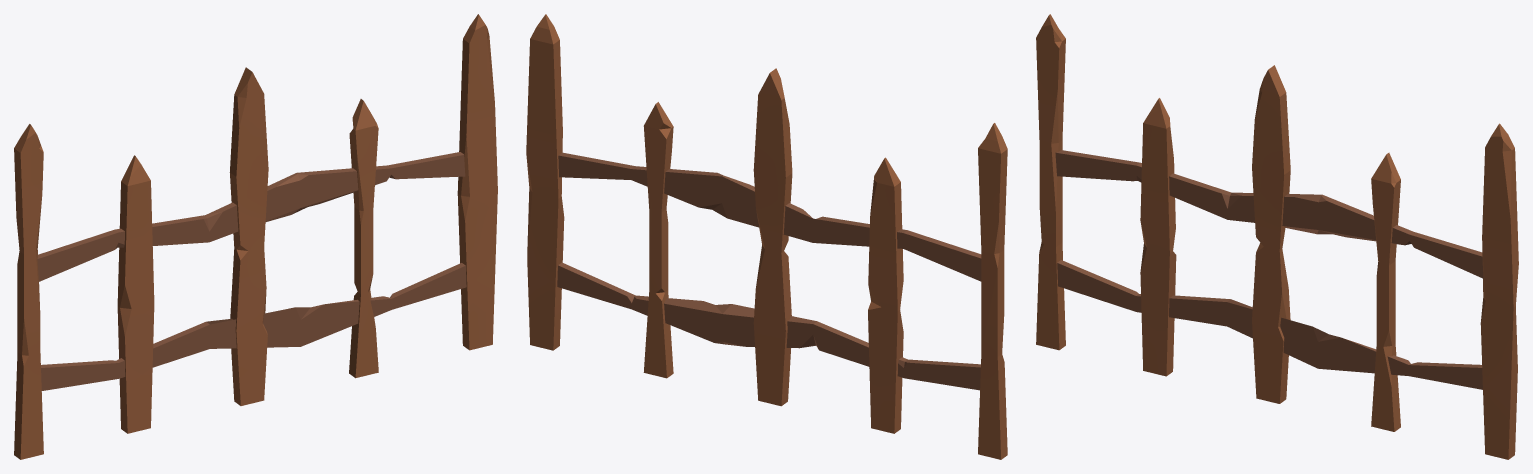
The model's file is mod_BG_Fence.fbx.
The picture shows the model from 3 angles, left to right: view 1: azimuth 30°, elevation 25°; view 2: azimuth 150°, elevation 25°; view 3: azimuth 330°, elevation 25°; orthographic projection.
Parts seen in each view (by area): view 1: Cube; view 2: Cube; view 3: Cube.
Part boxes in pixels (box(x1,y1,x2,y2)): Cube: box(14, 14, 497, 459); Cube: box(526, 14, 1007, 459); Cube: box(1036, 14, 1518, 459).
Bounding box in the file's own units: 66.19 × 43.92 × 1.69.
